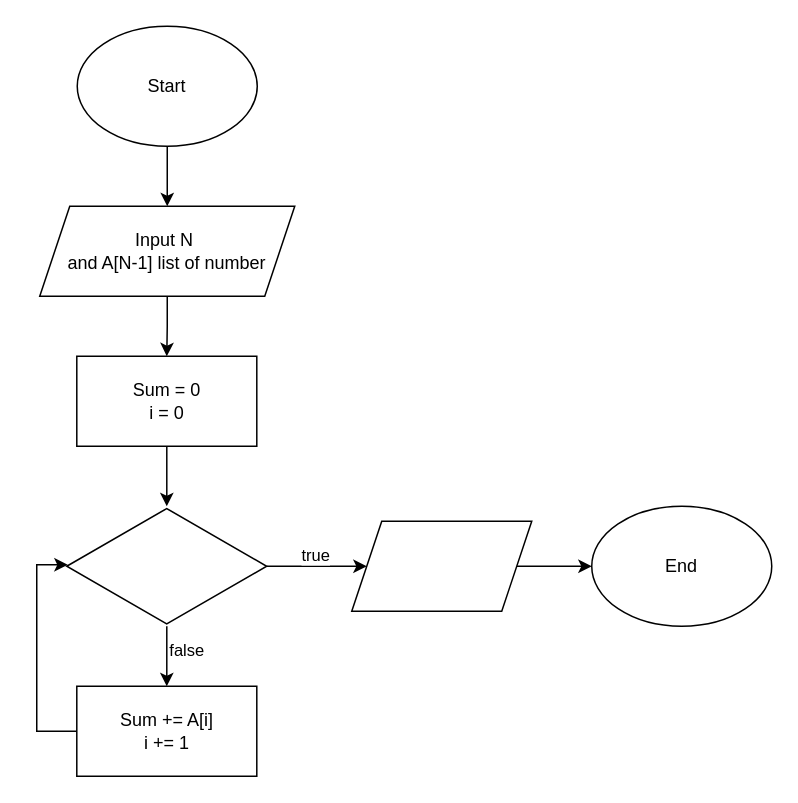
This 798x803 diagram has some shape labels left out. The shapes that lost their labels are listed below. From the top down, each one's centre as x and y in pixels, then its label:
[166,565]: i >= N
[441,565]: Output Sum
